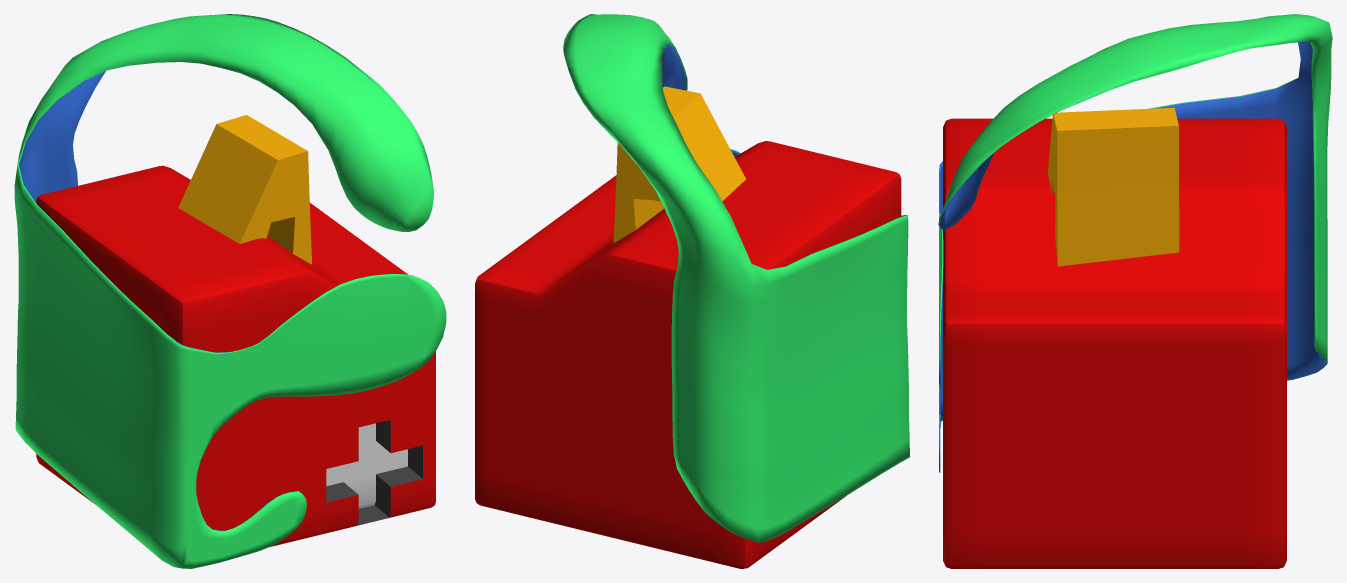
Rendered from hospital.fbx.
3 renders of one model, left to right at view 1: azimuth 30°, elevation 25°; view 2: azimuth 150°, elevation 25°; view 3: azimuth 270°, elevation 25°, orthographic. The views are drawn at different scales.
Visible parts, largest first — view 1: GreenGoop, Cube, Cube.001; view 2: GreenGoop, Cube, Cube.001; view 3: Cube, GreenGoop, Cube.001.
Part boxes in pixels (<box>): GreenGoop: <box>14,14,446,568</box>; Cube: <box>36,165,435,546</box>; Cube.001: <box>178,115,312,264</box>; GreenGoop: <box>563,14,909,542</box>; Cube: <box>475,141,901,568</box>; Cube.001: <box>613,86,745,242</box>; Cube: <box>943,118,1286,568</box>; GreenGoop: <box>938,14,1332,472</box>; Cube.001: <box>1047,107,1179,266</box>.
Size of the model in its own units: 291 by 416 by 305.
